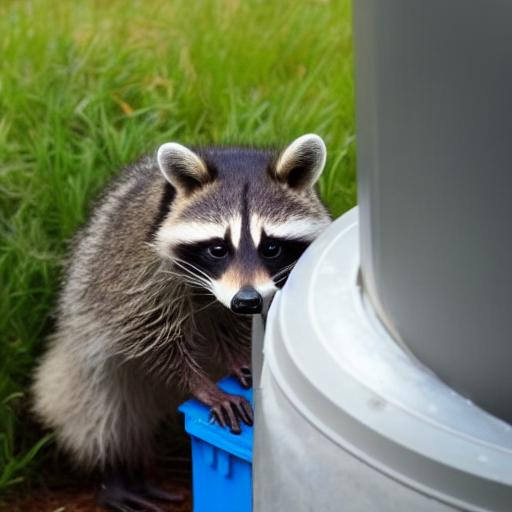raccoon: (28, 124, 338, 472)
